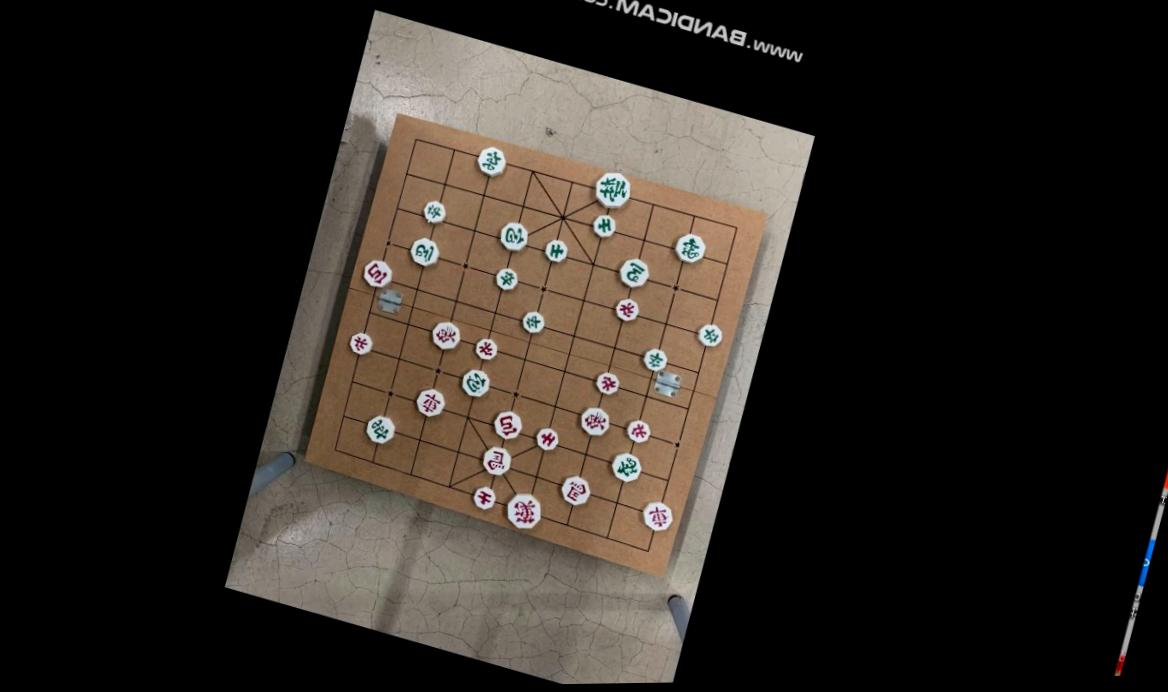cha_green: (361, 410, 399, 444), (473, 143, 510, 177)
cha_red: (637, 497, 676, 531), (410, 384, 447, 419)
jol_green: (515, 306, 547, 337), (692, 320, 725, 348), (417, 196, 449, 224), (638, 345, 669, 372), (491, 264, 520, 291)
jol_red: (620, 415, 653, 444), (590, 369, 622, 396), (470, 336, 500, 362), (345, 328, 375, 354), (609, 295, 639, 321)
ma_green: (612, 254, 651, 290), (404, 234, 442, 268)
ma_red: (555, 473, 593, 508), (477, 443, 515, 478)
po_green: (495, 218, 531, 252), (456, 365, 493, 398)
po_red: (487, 407, 524, 440), (359, 255, 396, 288)
sa_green: (588, 212, 619, 239), (539, 234, 569, 261)
sa_red: (467, 483, 498, 510), (532, 426, 562, 452)
sang_green: (670, 229, 709, 264), (606, 448, 644, 482)
sang_red: (426, 317, 463, 352), (574, 403, 611, 437)
wang_green: (588, 166, 634, 210)
wang_red: (500, 489, 547, 531)
